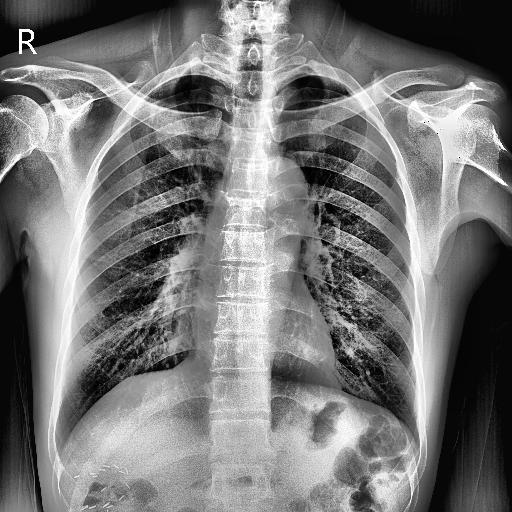0- Aortic enlargement: (253, 158, 311, 225), (264, 154, 311, 231)
1- Atelectasis: (252, 156, 308, 218)
